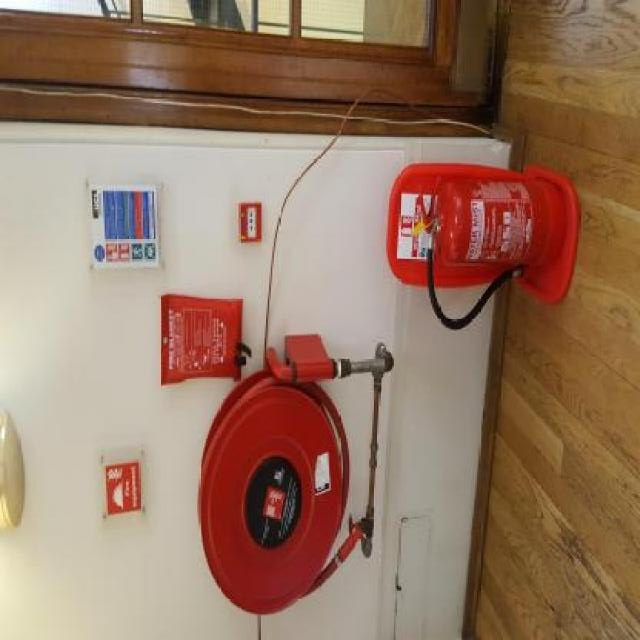fire extinguisher: (412, 181, 566, 273)
